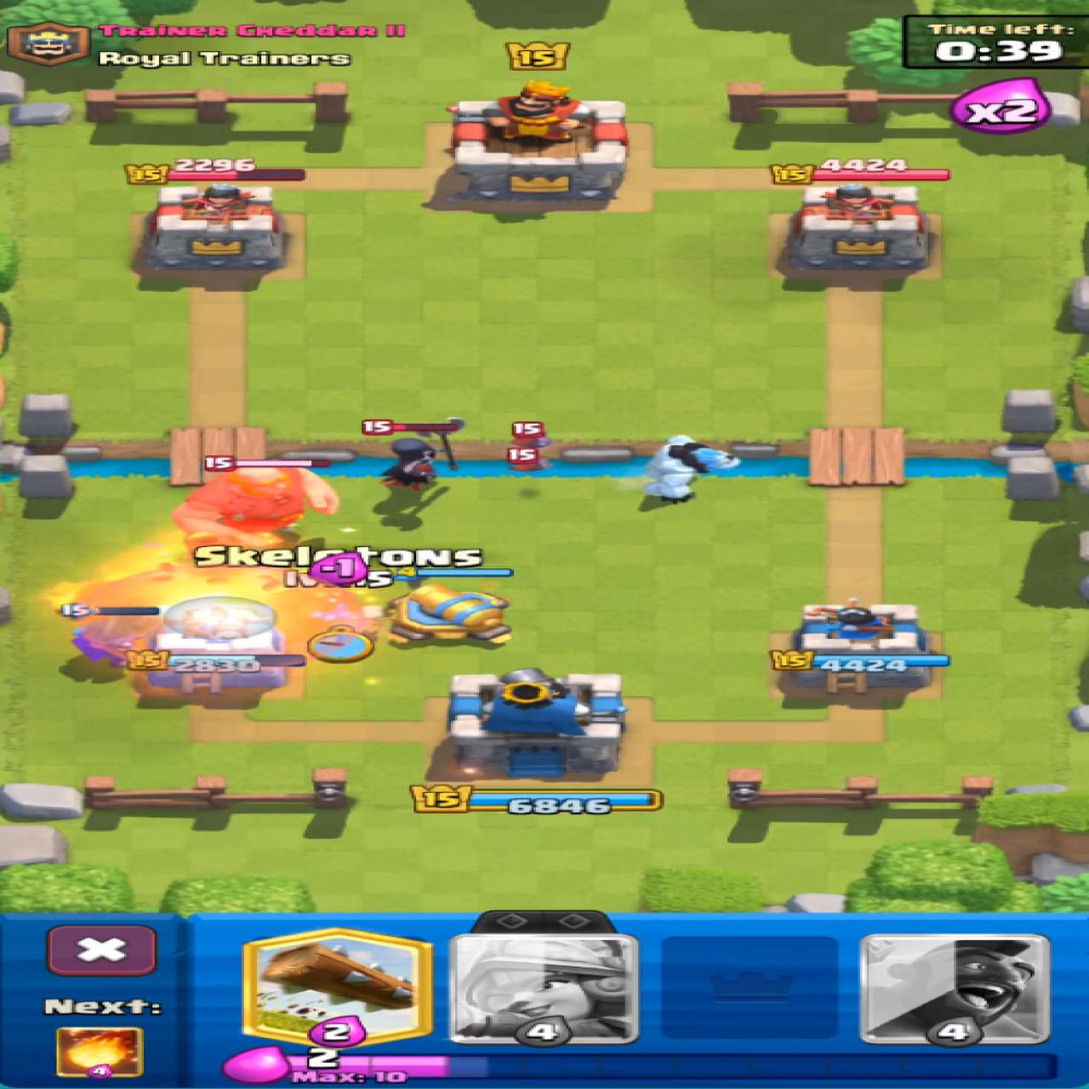Enemy-Bat: (512, 423, 549, 446), (510, 446, 540, 471)
Enemy-Giant: (174, 467, 338, 547)
Enemy-KingTower: (449, 79, 625, 201)
Enemy-NightWitch: (364, 417, 462, 492)
Enemy-PrincessTower: (144, 183, 283, 278), (791, 185, 928, 270)
